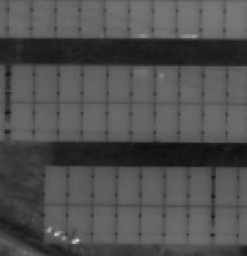solar: (31, 63, 61, 105), (55, 63, 85, 105), (80, 63, 110, 105), (104, 63, 134, 105), (129, 63, 159, 105), (152, 63, 182, 105), (177, 63, 207, 105), (200, 63, 230, 105), (200, 100, 230, 142), (175, 101, 205, 143), (151, 101, 181, 143), (126, 101, 156, 143), (103, 101, 133, 143), (78, 101, 108, 143), (54, 101, 84, 143), (30, 101, 60, 143), (6, 101, 36, 143), (40, 165, 70, 207), (65, 165, 95, 207), (89, 164, 119, 206), (114, 164, 144, 206), (137, 164, 167, 206), (161, 164, 191, 206), (184, 164, 214, 206), (212, 164, 242, 206), (40, 202, 70, 244), (64, 202, 94, 244), (89, 202, 119, 244), (113, 202, 143, 244), (136, 203, 166, 245), (160, 203, 190, 245), (183, 204, 213, 246), (212, 204, 242, 246), (217, 1, 247, 42), (199, 1, 229, 42), (174, 1, 204, 42), (149, 1, 179, 42), (7, 62, 36, 104)
